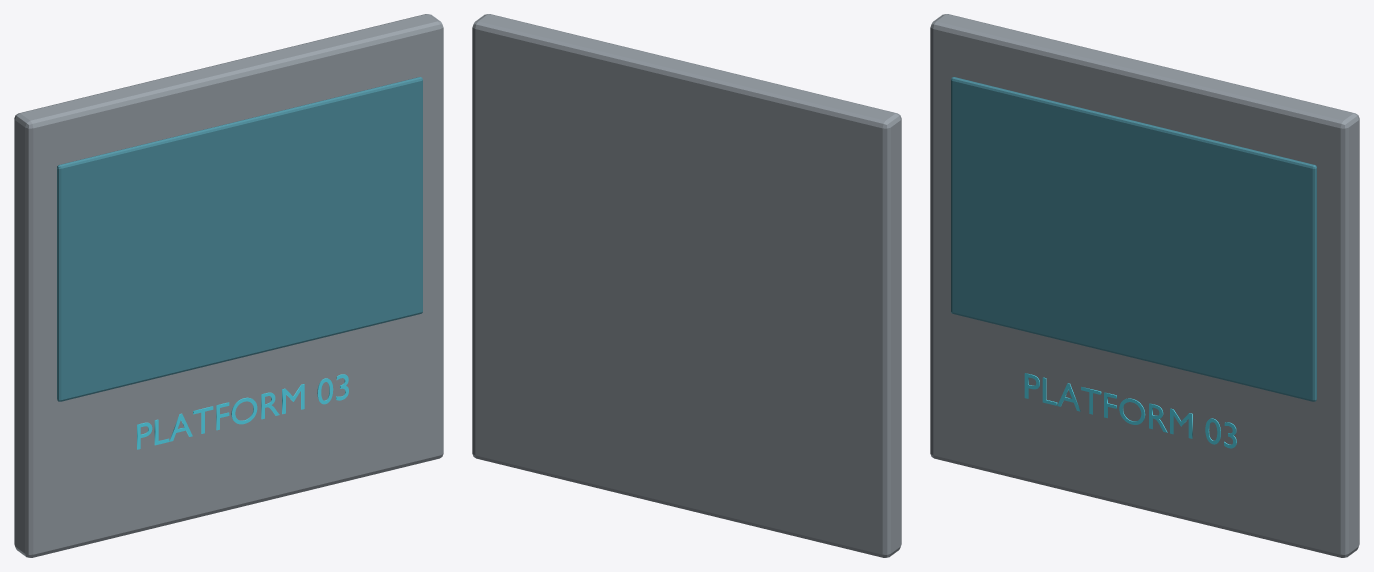
The model's file is 5_Unstable.fbx.
3 views of the same model, side by side, from view 1: azimuth 30°, elevation 25°; view 2: azimuth 150°, elevation 25°; view 3: azimuth 330°, elevation 25° (orthographic).
Parts seen in each view (by area): view 1: Body; view 2: Body; view 3: Body.
Part boxes in pixels (<box>): Body: <box>14,14,443,557</box>; Body: <box>472,14,901,557</box>; Body: <box>930,14,1359,557</box>.
Size of the model in its own units: 2.4 by 2.4 by 0.222.
